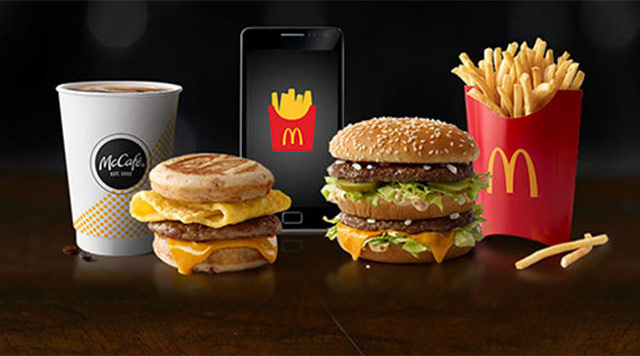mcdonalds: (483, 147, 538, 198), (278, 124, 304, 146)
